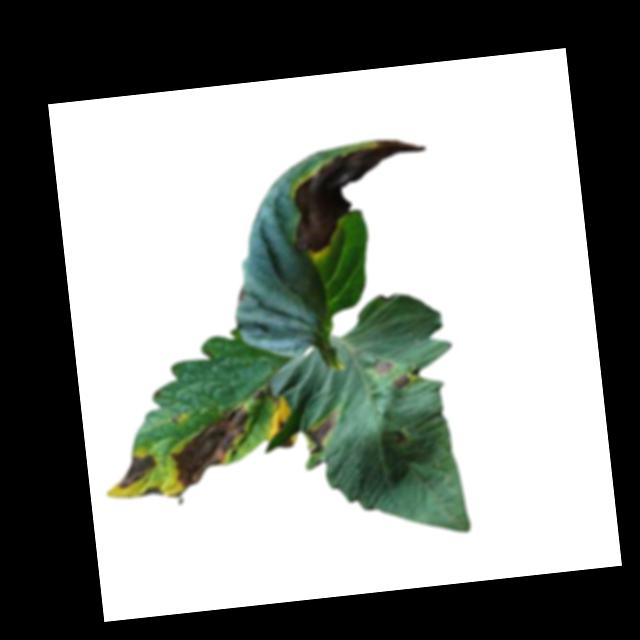Early_blight: (279, 136, 437, 258), (166, 401, 256, 491), (112, 454, 159, 491), (304, 412, 342, 454), (263, 399, 292, 441), (372, 358, 395, 376), (140, 485, 164, 501), (393, 375, 412, 390)
